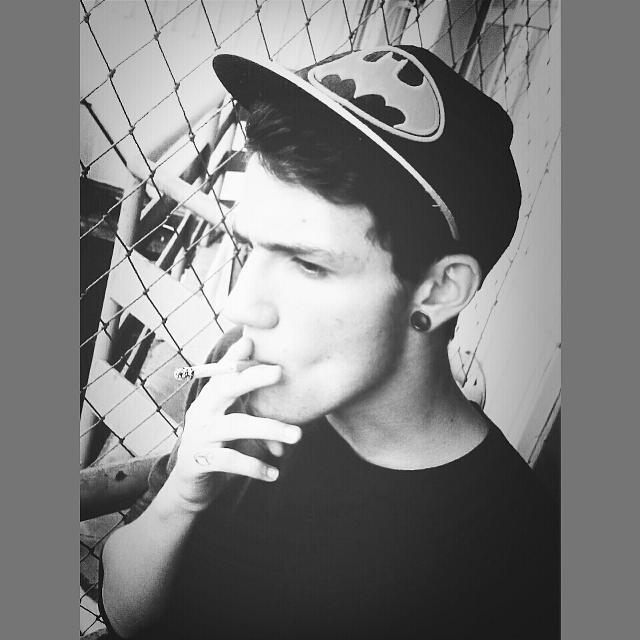rokok: (172, 354, 252, 380)
